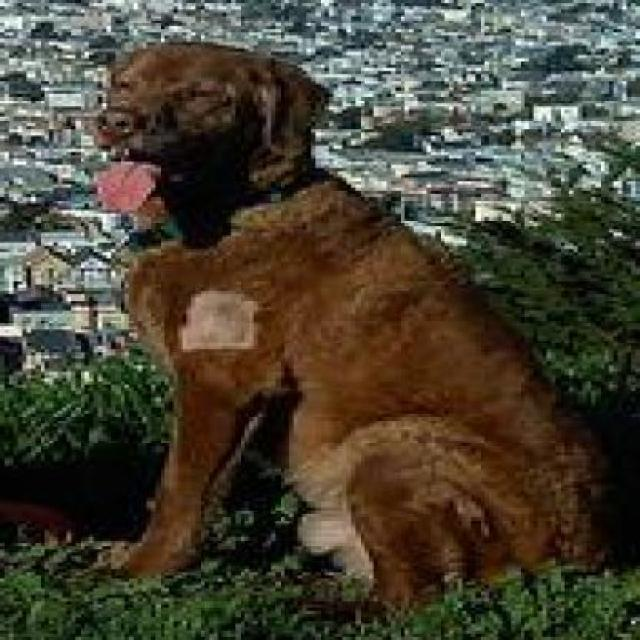Dog: (92, 39, 631, 598)
